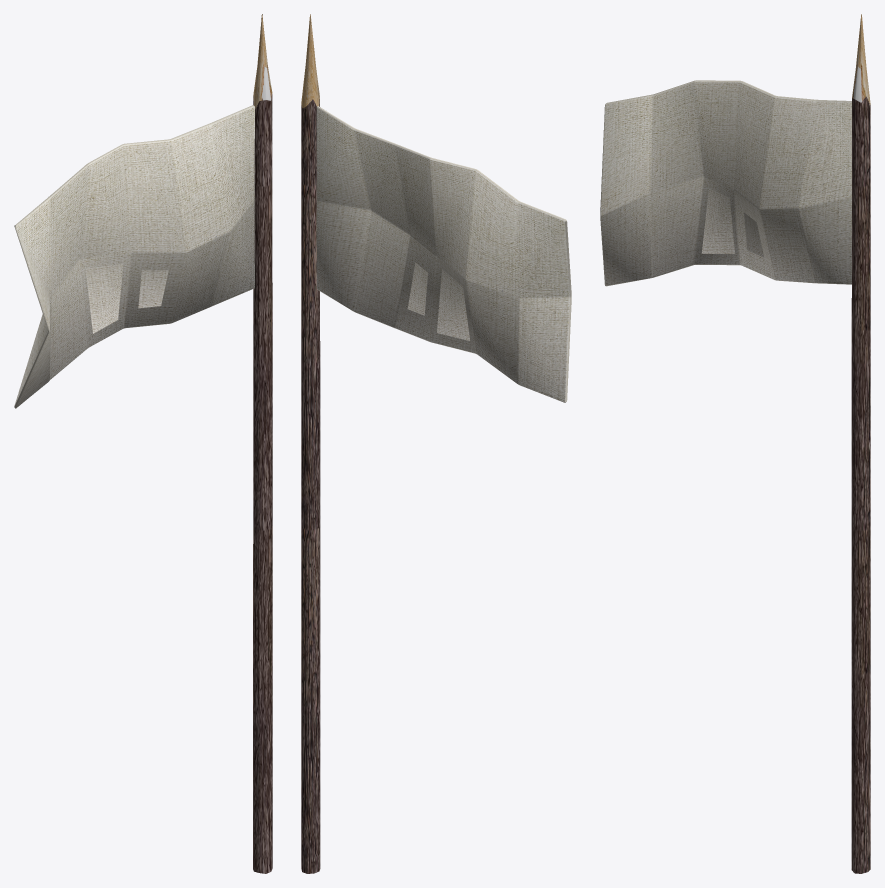
The model's file is flag_pole_white_animated.FBX.
3 views of the same model, side by side, from view 1: azimuth 30°, elevation 25°; view 2: azimuth 150°, elevation 25°; view 3: azimuth 330°, elevation 25° (orthographic).
Parts seen in each view (by area): view 1: Box001, Cylinder004; view 2: Box001, Cylinder004; view 3: Box001, Cylinder004.
Part boxes in pixels (<box>): Box001: <box>14,105,254,408</box>; Cylinder004: <box>253,14,272,873</box>; Box001: <box>316,106,571,402</box>; Cylinder004: <box>301,14,320,873</box>; Box001: <box>600,80,851,286</box>; Cylinder004: <box>851,14,870,873</box>.
Bounding box in the file's own units: 7.44 × 1.92 × 23.38.
